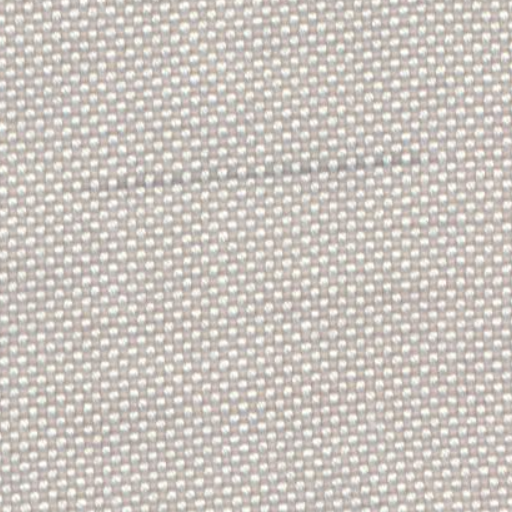WuZi: (88, 152, 404, 194)
